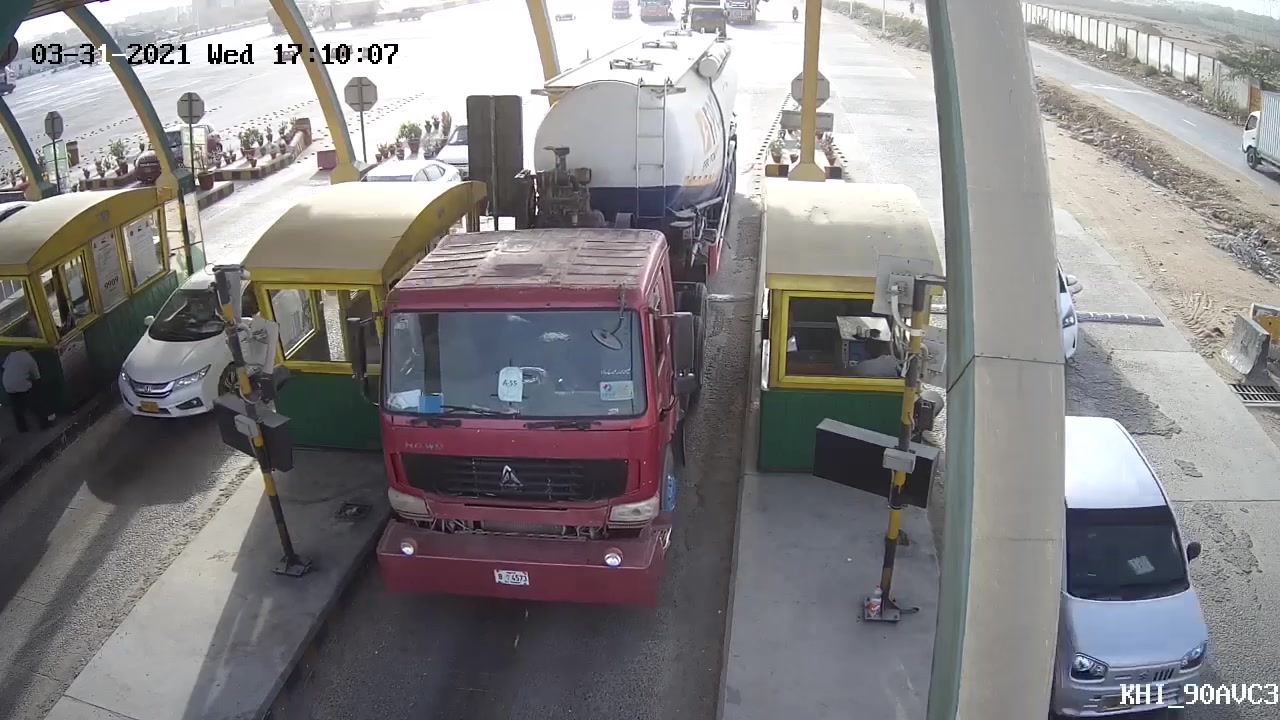F6: (366, 92, 713, 630)
